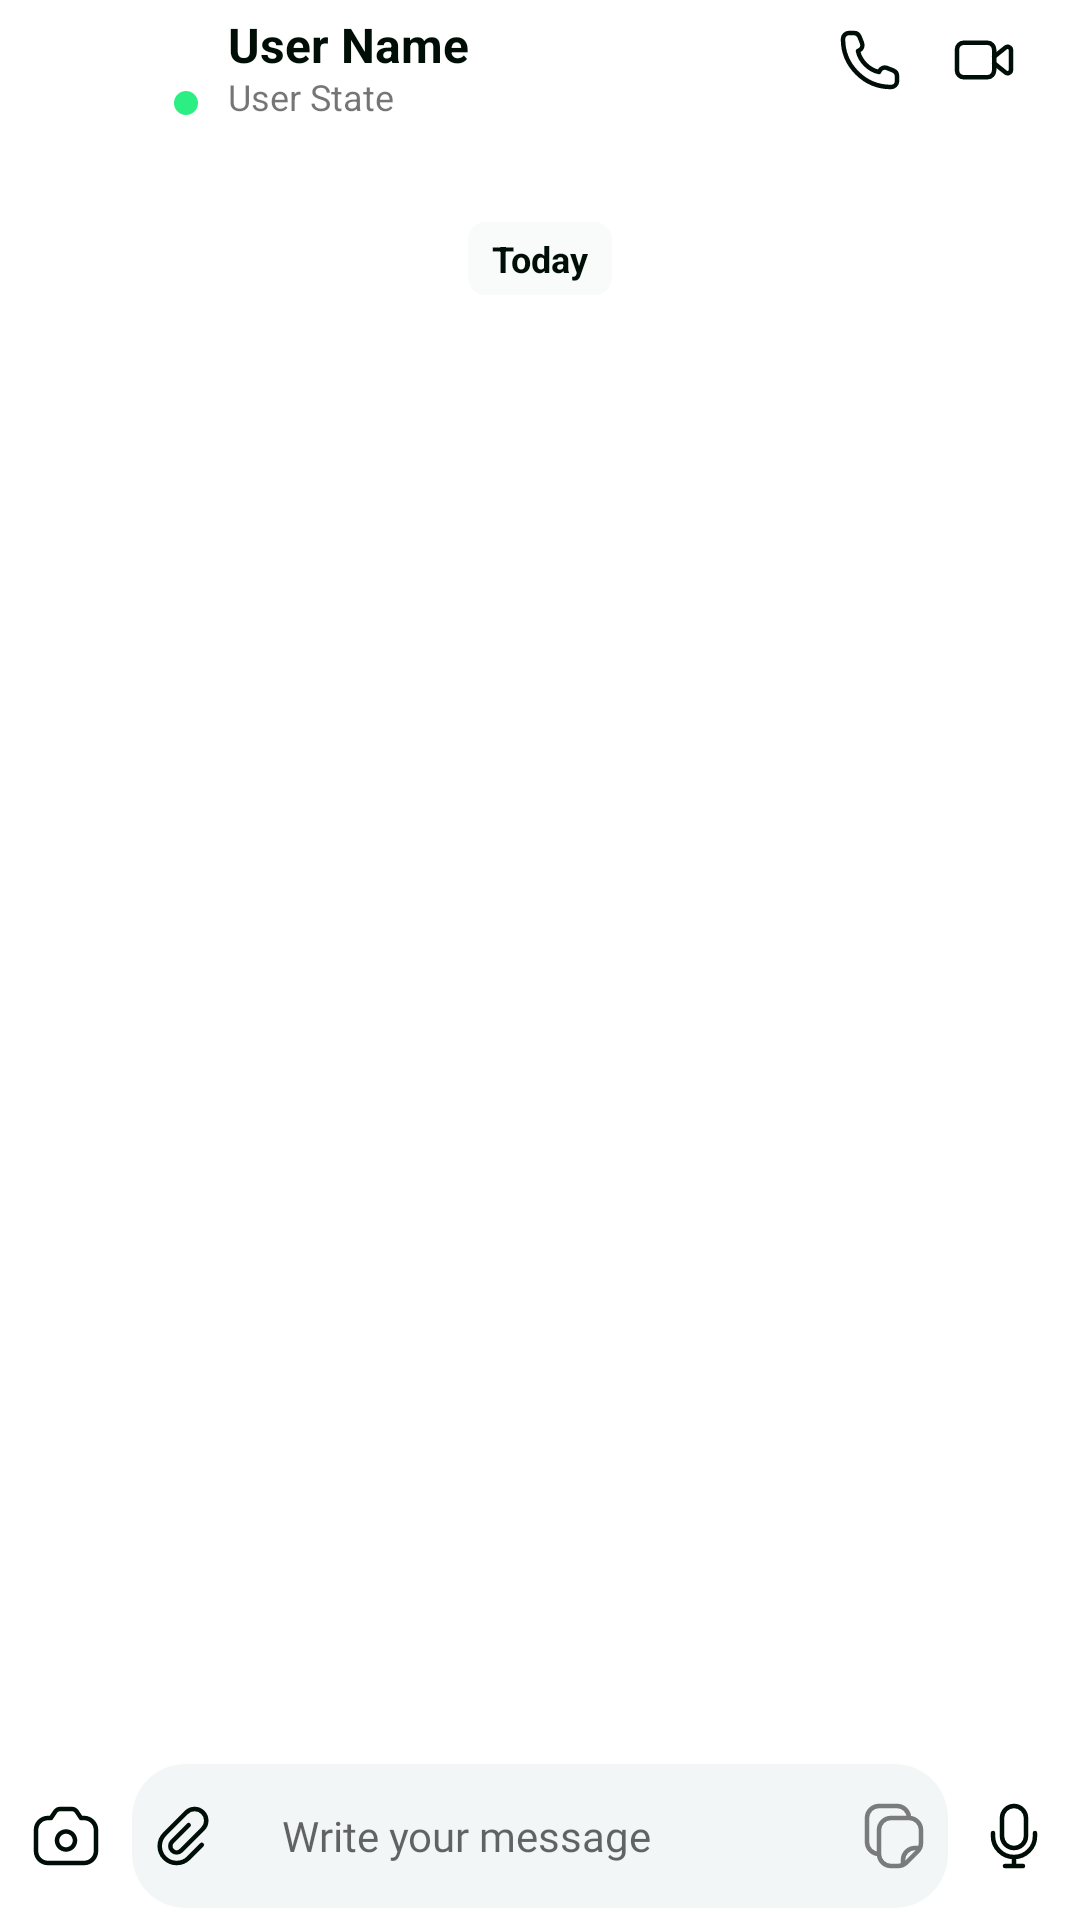

Icon bounding boxes for this 1080px x 1920px phone screenshot, format bbox=[x1, y1, x2, y2]:
messages audio call: bbox=[840, 30, 900, 90]
messages call video: bbox=[954, 40, 1014, 80]
messages gallery: bbox=[33, 1806, 99, 1866]
messages mic record: bbox=[990, 1803, 1038, 1869]
